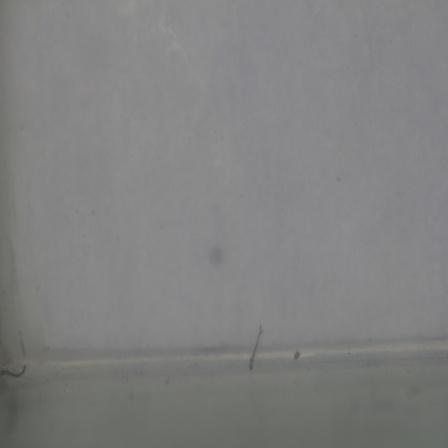Jentik-Nyamuk: (244, 323, 270, 369)
